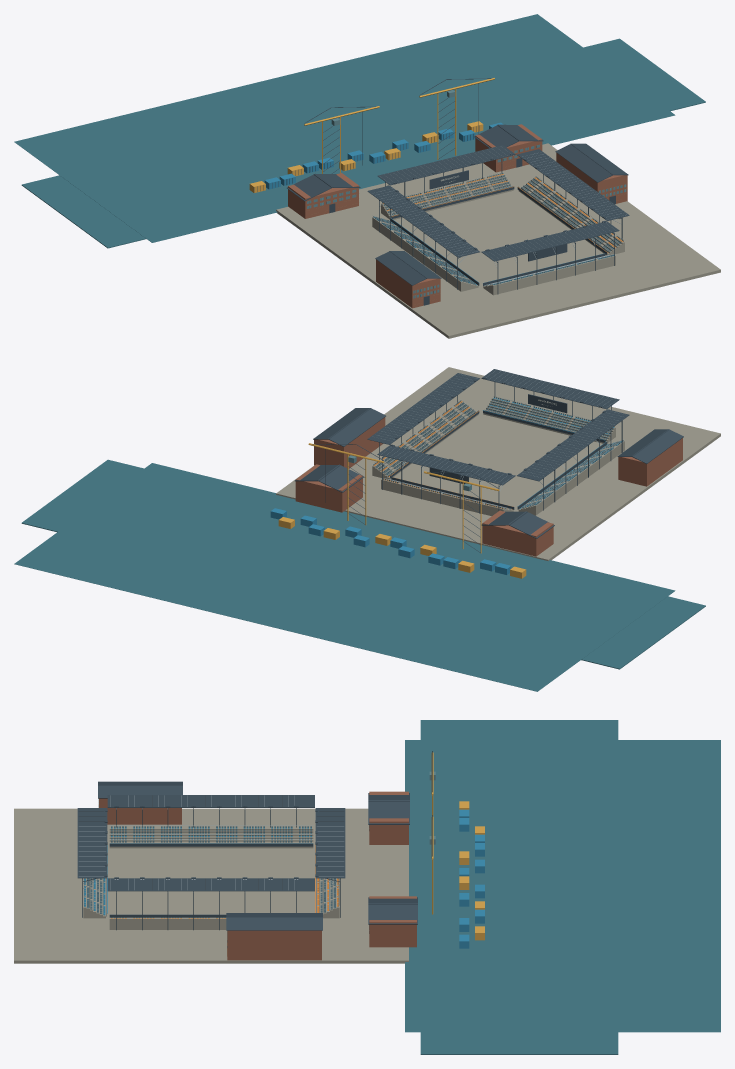
Rendered from harbourworks.glb.
3 views of the same model, one above another, from view 1: azimuth 30°, elevation 25°; view 2: azimuth 150°, elevation 25°; view 3: azimuth 270°, elevation 25° (orthographic). The views are drawn at different scales.
Visible parts, largest first — view 1: Harbourworks_Harbour_water, Harbourworks_Warm_concrete, Harbourworks_Painted_midnight_steel, Harbourworks_Harbour_red_brick, Harbourworks_Slate_seating, Harbourworks_Brushed_aluminium, Harbourworks_Home_ocean_blue, Harbourworks_Crane_safety_yellow, Harbourworks_Warehouse_glass, Harbourworks_Away_amber; view 2: Harbourworks_Harbour_water, Harbourworks_Warm_concrete, Harbourworks_Painted_midnight_steel, Harbourworks_Harbour_red_brick, Harbourworks_Slate_seating, Harbourworks_Brushed_aluminium, Harbourworks_Home_ocean_blue, Harbourworks_Crane_safety_yellow, Harbourworks_Away_amber; view 3: Harbourworks_Harbour_water, Harbourworks_Warm_concrete, Harbourworks_Painted_midnight_steel, Harbourworks_Harbour_red_brick, Harbourworks_Slate_seating, Harbourworks_Home_ocean_blue, Harbourworks_Brushed_aluminium, Harbourworks_Crane_safety_yellow.
Part boxes in pixels (x1,y1,x2,y2): Harbourworks_Harbour_water: [14, 14, 705, 248]; Harbourworks_Warm_concrete: [276, 143, 720, 338]; Harbourworks_Painted_midnight_steel: [254, 78, 629, 305]; Harbourworks_Harbour_red_brick: [288, 124, 627, 308]; Harbourworks_Slate_seating: [373, 173, 623, 285]; Harbourworks_Brushed_aluminium: [309, 146, 626, 298]; Harbourworks_Home_ocean_blue: [264, 122, 613, 285]; Harbourworks_Crane_safety_yellow: [249, 78, 494, 192]; Harbourworks_Warehouse_glass: [307, 90, 626, 298]; Harbourworks_Away_amber: [383, 174, 623, 253]; Harbourworks_Harbour_water: [14, 459, 705, 691]; Harbourworks_Warm_concrete: [276, 367, 720, 560]; Harbourworks_Painted_midnight_steel: [295, 369, 683, 552]; Harbourworks_Harbour_red_brick: [295, 417, 682, 556]; Harbourworks_Slate_seating: [373, 396, 623, 509]; Harbourworks_Brushed_aluminium: [372, 370, 624, 508]; Harbourworks_Home_ocean_blue: [270, 397, 623, 574]; Harbourworks_Crane_safety_yellow: [278, 443, 526, 578]; Harbourworks_Away_amber: [373, 401, 512, 509]; Harbourworks_Harbour_water: [405, 720, 720, 1054]; Harbourworks_Warm_concrete: [14, 808, 408, 963]; Harbourworks_Painted_midnight_steel: [77, 751, 432, 930]; Harbourworks_Harbour_red_brick: [99, 791, 416, 960]; Harbourworks_Slate_seating: [84, 826, 338, 917]; Harbourworks_Home_ocean_blue: [84, 809, 484, 948]; Harbourworks_Brushed_aluminium: [79, 795, 369, 933]; Harbourworks_Crane_safety_yellow: [431, 752, 484, 940].
Bounding box in the file's own units: 400 × 52.18 × 358.
